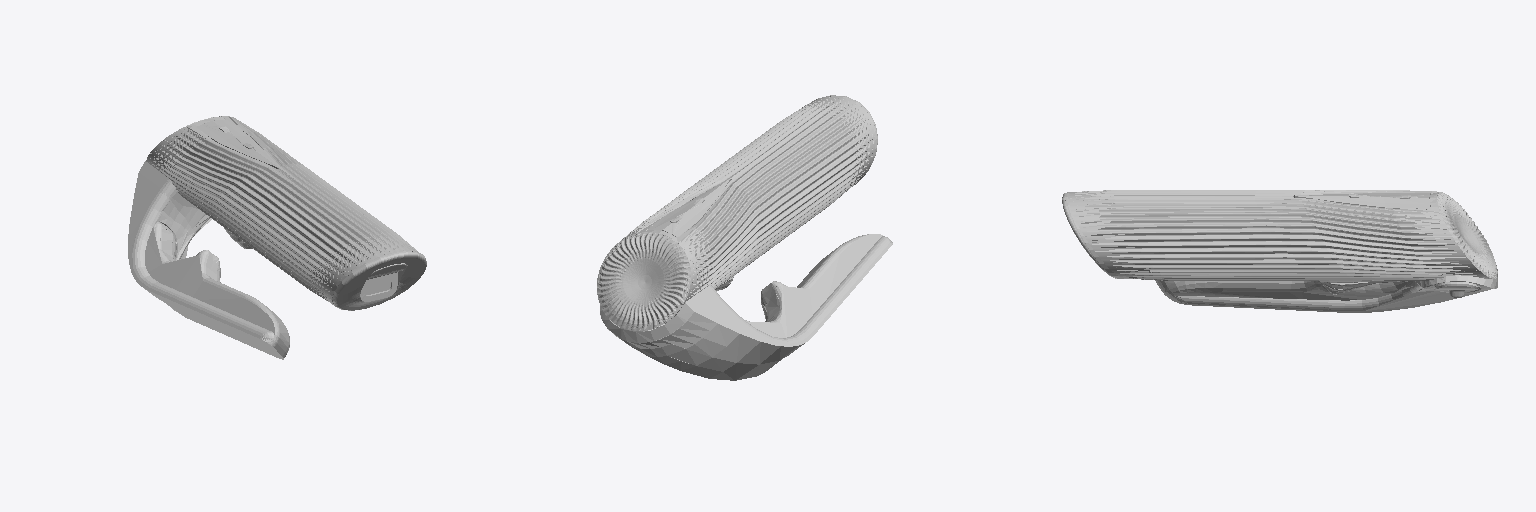
The model's file is etee_controller_left.obj.
The picture shows the model from 3 angles: view 1: azimuth 30°, elevation 25°; view 2: azimuth 150°, elevation 25°; view 3: azimuth 270°, elevation 25°; orthographic projection.
Parts seen in each view (by area): view 1: 2020.07.21_Sleeve.001_Sleeve.002; view 2: 2020.07.21_Sleeve.001_Sleeve.002; view 3: 2020.07.21_Sleeve.001_Sleeve.002.
Boxes of the visible parts, <box> form: 2020.07.21_Sleeve.001_Sleeve.002: <box>128,116,426,359</box>; 2020.07.21_Sleeve.001_Sleeve.002: <box>597,95,892,380</box>; 2020.07.21_Sleeve.001_Sleeve.002: <box>1062,190,1497,312</box>.
Bounding box in the file's own units: 0.0535 × 0.0503 × 0.131.